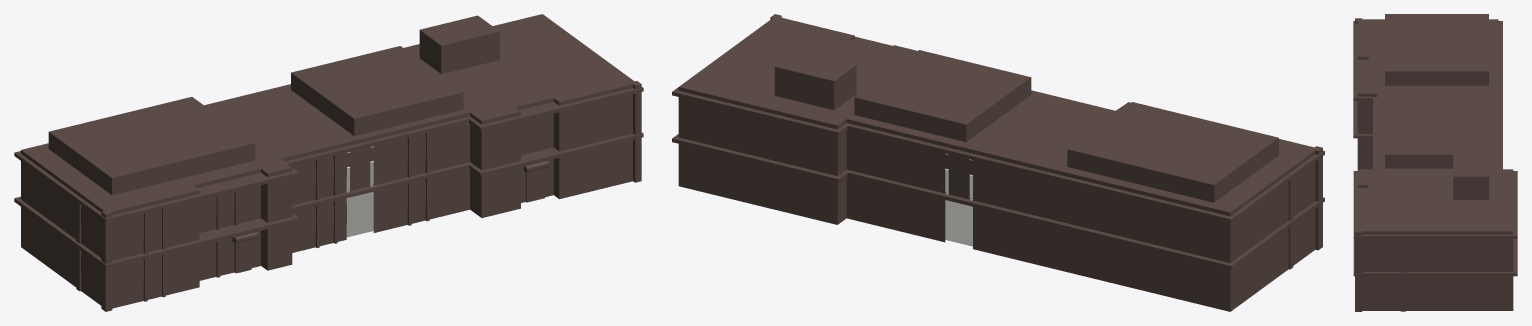
The model's file is ind-warehouse-4.access-v12.lod2.glb.
3 renders of one model, left to right at view 1: azimuth 30°, elevation 25°; view 2: azimuth 150°, elevation 25°; view 3: azimuth 270°, elevation 25°, orthographic. The views are drawn at different scales.
Visible parts, largest first — view 1: Industrial_Warehouse_4_Industrial_Facade_Flr_1_0; view 2: Industrial_Warehouse_4_Industrial_Facade_Flr_1_0; view 3: Industrial_Warehouse_4_Industrial_Facade_Flr_1_0.
Boxes of the visible parts, bbox=[...] form: Industrial_Warehouse_4_Industrial_Facade_Flr_1_0: bbox=[14, 14, 643, 311]; Industrial_Warehouse_4_Industrial_Facade_Flr_1_0: bbox=[672, 14, 1324, 311]; Industrial_Warehouse_4_Industrial_Facade_Flr_1_0: bbox=[1353, 14, 1517, 311].
Bounding box in the file's own units: 42.08 × 9.38 × 13.59.
